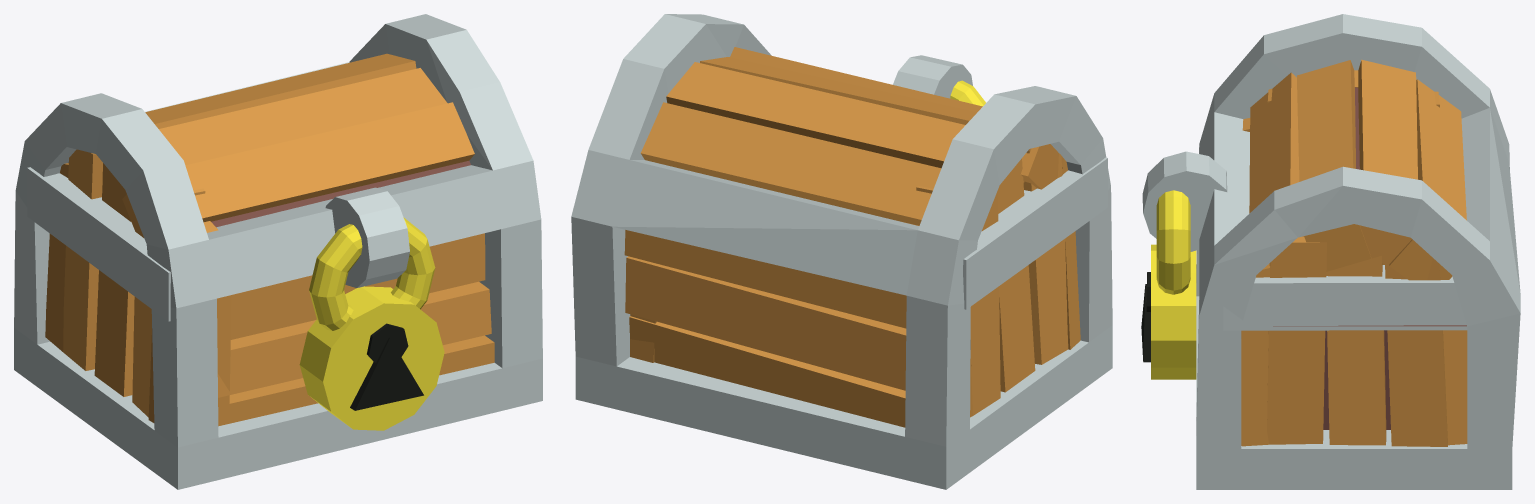
File: treasure_chest2.glb
3 renders of one model, left to right at view 1: azimuth 30°, elevation 25°; view 2: azimuth 150°, elevation 25°; view 3: azimuth 270°, elevation 25°, orthographic. The views are drawn at different scales.
Visible parts, largest first — view 1: group499985679; view 2: group499985679; view 3: group499985679.
Part boxes in pixels (left/top/right/bottom): group499985679: left=14, top=14, right=542, bottom=489; group499985679: left=571, top=14, right=1112, bottom=489; group499985679: left=1141, top=14, right=1520, bottom=489.
Size of the model in its own units: 1.48 by 1.21 by 1.36.
Materials: 1 (1 with a texture image).
